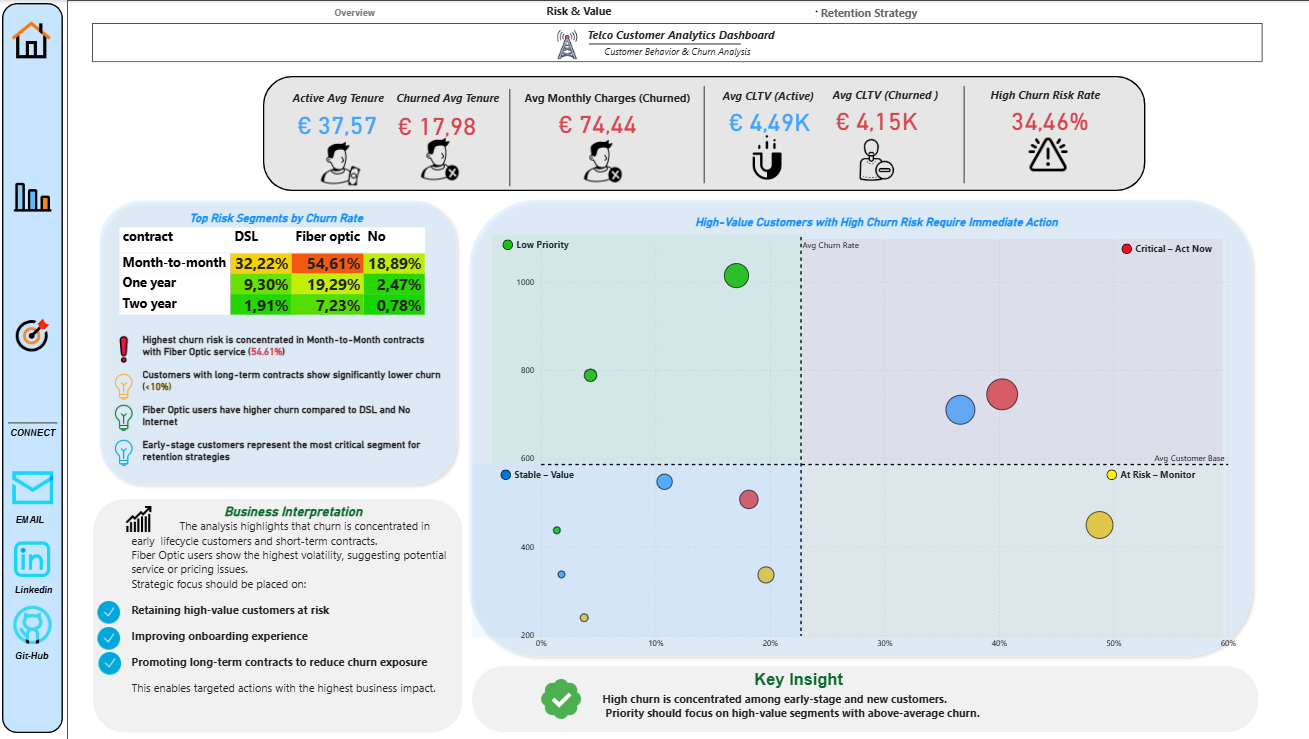

The dashboard page shown, as its layout file describes it:
{"tool":"powerbi","page":{"name":"Risk & Value","canvas":[1920,1080],"ordinal":1},"visuals":[{"type":"shape","box":[101.8,0,1817.9,1080.4],"z":0},{"type":"shape","box":[139.2,33.9,1707.7,57.1],"z":1000},{"type":"textbox","box":[851.8,35.7,325,37.5],"z":2000},{"type":"shape","box":[6.7,4,88.9,1065.2],"z":3000},{"type":"textbox","box":[487,4.3,87,31.9],"z":5000},{"type":"textbox","box":[680.9,0,335.3,32.4],"z":6000},{"type":"textbox","box":[1104.4,2.9,318.1,51.1],"z":7000},{"type":"image","box":[16.2,31,68.7,57.9],"z":9000},{"type":"image","box":[804.3,37.7,56.5,53.6],"z":10000},{"type":"textbox","box":[857.1,60.7,269.6,30.4],"z":11000},{"type":"image","box":[18,259,68.9,55.7],"z":12000},{"type":"image","box":[16.4,463.9,68.9,52.5],"z":13000},{"type":"shape","box":[15.9,589.9,72.5,55.1],"z":14000},{"type":"shape","box":[863.8,55.1,221.7,17.4],"z":15000},{"type":"image","box":[11.6,678.3,81.2,65.2],"z":16000},{"type":"image","box":[7.2,787,88.4,59.4],"z":17000},{"type":"image","box":[7.2,881.2,88.4,60.9],"z":18000},{"type":"textbox","box":[8.7,617.4,87,27.5],"z":19000},{"type":"textbox","box":[9.8,743.9,75.8,26.7],"z":20000},{"type":"textbox","box":[11.6,846.4,84.1,29],"z":21000},{"type":"textbox","box":[8.7,942,84.1,29],"z":22000},{"type":"shape","box":[139.3,283.6,539.3,432.8],"z":23000},{"type":"shape","box":[387.5,110.7,1287.5,167.9],"z":24000},{"type":"image","box":[457.2,202.1,79.1,71.6],"z":25000},{"type":"shape","box":[730.3,130.4,34.3,141.8],"z":26000},{"type":"card","fields":{"Values":["Misure.Avg Monthly Charges Churned"]},"box":[798.8,145.2,157.4,63.3],"z":27000},{"type":"textbox","box":[578,126.4,160.9,49.6],"z":28000},{"type":"shape","box":[680.3,282,1160.7,685.2],"z":29000},{"type":"card","fields":{"Values":["Misure.Avg Tenure Non Churned"]},"box":[432.6,146.9,130.1,65],"z":30000},{"type":"shape","box":[1015.4,126,32.8,141.8],"z":31000},{"type":"card","fields":{"Values":["Misure.CLTV average Non Churned"]},"box":[1048.6,143.5,157.4,63.3],"z":32000},{"type":"card","fields":{"Values":["Misure.High Risk %"]},"box":[1460.7,142.9,151.8,62.5],"z":33000},{"type":"card","fields":{"Values":["Misure.Avg Tenure Churned"]},"box":[562.6,148.6,159.1,63.3],"z":34000},{"type":"card","fields":{"Values":["Misure.CLTV Churned"]},"box":[1205,142.4,158.2,62.7],"z":35000},{"type":"shape","box":[1399,126,23.9,141.8],"z":36000},{"type":"textbox","box":[425.7,126.4,152.3,37.6],"z":37000},{"type":"textbox","box":[764.6,126.4,258.4,37.6],"z":38000},{"type":"textbox","box":[1443.8,123,197,35.8],"z":39000},{"type":"textbox","box":[1053.8,124.7,246.4,53],"z":40000},{"type":"textbox","box":[1213.9,123,173.1,38.8],"z":41000},{"type":"image","box":[602,197.6,79.1,71.6],"z":42000},{"type":"image","box":[840.8,200.6,79.1,71.6],"z":43000},{"type":"image","box":[1084.1,194.6,79.1,71.6],"z":44000},{"type":"image","box":[1244.6,201.8,78.6,64.3],"z":45000},{"type":"image","box":[1494.5,194.6,79.1,64.2],"z":46000},{"type":"pivotTable","title":"Top Risk Segments by Churn Rate","fields":{"Values":["Misure.Churn rate %"],"Rows":["telco chast.contract"],"Columns":["telco chast.internet_service"]},"box":[173.5,307.4,467.6,183.8],"z":47000},{"type":"textbox","box":[206.6,482,452.5,216.4],"z":48000},{"type":"shape","box":[693.4,972.1,1147.5,96.7],"z":49000},{"type":"scatterChart","title":"High-Value Customers with High Churn Risk Require Immediate Action","fields":{"X":["Misure.Churn rate %"],"Size":["Misure.Churn Impact Score"],"Y":["Misure.Total Customer"],"Category":["telco chast.internet_service","telco chast.contract"],"Series":["telco chast.tenure_label"]},"box":[752.9,313.2,1060.3,642.6],"z":50000},{"type":"shape","box":[139.3,727.9,539.3,341],"z":51000},{"type":"textbox","box":[878.7,1003.3,732.8,57.4],"z":52000},{"type":"textbox","box":[191.8,729.5,482,339.3],"z":53000},{"type":"shape","box":[1176.5,348.5,611.8,327.9],"z":54000},{"type":"shape","box":[1176.5,677.9,611.8,252.9],"z":55000},{"type":"shape","box":[692.6,676.5,483.8,252.9],"z":56000},{"type":"shape","box":[722.1,342.6,454.4,333.8],"z":57000},{"type":"textbox","box":[730.9,342.6,110.3,38.2],"z":58000},{"type":"textbox","box":[728,678.4,132.8,37.9],"z":59000},{"type":"textbox","box":[1633.8,348.5,154.4,42.6],"z":60000},{"type":"textbox","box":[1611.8,677.9,176.5,38.2],"z":61000},{"type":"image","box":[185.2,737.7,42.6,37.7],"z":62000},{"type":"image","box":[163.9,472.1,42.6,73.8],"z":63000},{"type":"image","box":[163.9,526.2,42.6,73.8],"z":64000},{"type":"image","box":[163.9,572.1,42.6,73.8],"z":65000},{"type":"image","box":[163.9,623,42.6,73.8],"z":66000},{"type":"image","box":[139.3,875.4,45.9,36.1],"z":67000},{"type":"image","box":[139.3,913.1,45.9,36.1],"z":68000},{"type":"image","box":[141,949.2,45.9,36.1],"z":69000},{"type":"textbox","box":[1100,972.1,224.6,77],"z":70000},{"type":"image","box":[782,985.2,82,70.5],"z":71000}]}

Visuals, with their boxes on the page's 1920x1080 design canvas (x1, y1, x2, y2). These are canvas units, not pixel positions in the 1309x739 screenshot, which may show the page scaled, cropped or inside an application window:
shape: [102, 0, 1920, 1080]
shape: [139, 34, 1847, 91]
textbox: [852, 36, 1177, 73]
shape: [7, 4, 96, 1069]
textbox: [487, 4, 574, 36]
textbox: [681, 0, 1016, 32]
textbox: [1104, 3, 1422, 54]
image: [16, 31, 85, 89]
image: [804, 38, 861, 91]
textbox: [857, 61, 1127, 91]
image: [18, 259, 87, 315]
image: [16, 464, 85, 516]
shape: [16, 590, 88, 645]
shape: [864, 55, 1086, 72]
image: [12, 678, 93, 744]
image: [7, 787, 96, 846]
image: [7, 881, 96, 942]
textbox: [9, 617, 96, 645]
textbox: [10, 744, 86, 771]
textbox: [12, 846, 96, 875]
textbox: [9, 942, 93, 971]
shape: [139, 284, 679, 716]
shape: [388, 111, 1675, 279]
image: [457, 202, 536, 274]
shape: [730, 130, 765, 272]
card - Misure.Avg Monthly Charges Churned: [799, 145, 956, 208]
textbox: [578, 126, 739, 176]
shape: [680, 282, 1841, 967]
card - Misure.Avg Tenure Non Churned: [433, 147, 563, 212]
shape: [1015, 126, 1048, 268]
card - Misure.CLTV average Non Churned: [1049, 144, 1206, 207]
card - Misure.High Risk %: [1461, 143, 1612, 205]
card - Misure.Avg Tenure Churned: [563, 149, 722, 212]
card - Misure.CLTV Churned: [1205, 142, 1363, 205]
shape: [1399, 126, 1423, 268]
textbox: [426, 126, 578, 164]
textbox: [765, 126, 1023, 164]
textbox: [1444, 123, 1641, 159]
textbox: [1054, 125, 1300, 178]
textbox: [1214, 123, 1387, 162]
image: [602, 198, 681, 269]
image: [841, 201, 920, 272]
image: [1084, 195, 1163, 266]
image: [1245, 202, 1323, 266]
image: [1494, 195, 1574, 259]
"Top Risk Segments by Churn Rate" pivotTable: [174, 307, 641, 491]
textbox: [207, 482, 659, 698]
shape: [693, 972, 1841, 1069]
"High-Value Customers with High Churn Risk Require Immediate Action" scatterChart: [753, 313, 1813, 956]
shape: [139, 728, 679, 1069]
textbox: [879, 1003, 1612, 1061]
textbox: [192, 730, 674, 1069]
shape: [1176, 348, 1788, 676]
shape: [1176, 678, 1788, 931]
shape: [693, 676, 1176, 929]
shape: [722, 343, 1176, 676]
textbox: [731, 343, 841, 381]
textbox: [728, 678, 861, 716]
textbox: [1634, 348, 1788, 391]
textbox: [1612, 678, 1788, 716]
image: [185, 738, 228, 775]
image: [164, 472, 206, 546]
image: [164, 526, 206, 600]
image: [164, 572, 206, 646]
image: [164, 623, 206, 697]
image: [139, 875, 185, 912]
image: [139, 913, 185, 949]
image: [141, 949, 187, 985]
textbox: [1100, 972, 1325, 1049]
image: [782, 985, 864, 1056]
